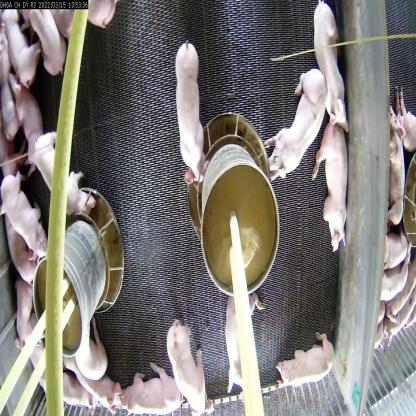Pig: (26, 117, 96, 235), (264, 69, 326, 177), (170, 40, 209, 190), (305, 0, 348, 125), (314, 111, 350, 252), (159, 317, 210, 415), (218, 294, 265, 398), (106, 357, 188, 415), (3, 170, 44, 260), (278, 334, 335, 390), (3, 0, 38, 86)
